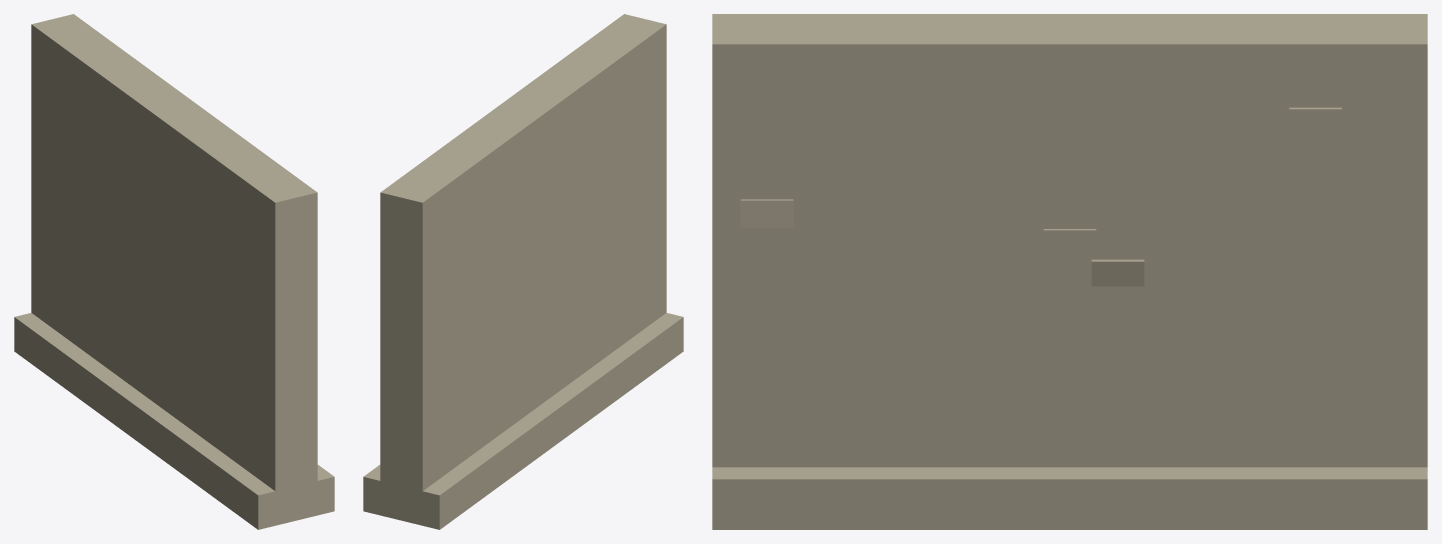
File: wall1.fbx
The picture shows the model from 3 angles, left to right: view 1: azimuth 30°, elevation 25°; view 2: azimuth 150°, elevation 25°; view 3: azimuth 270°, elevation 25°; orthographic projection. The views are drawn at different scales.
Parts seen in each view (by area): view 1: Cube.014; view 2: Cube.014; view 3: Cube.014.
Boxes of the visible parts, x1,y1,x2,y2 form: Cube.014: [14, 14, 334, 529]; Cube.014: [363, 14, 683, 529]; Cube.014: [712, 14, 1427, 529].
Size of the model in its own units: 103 by 416 by 569.
